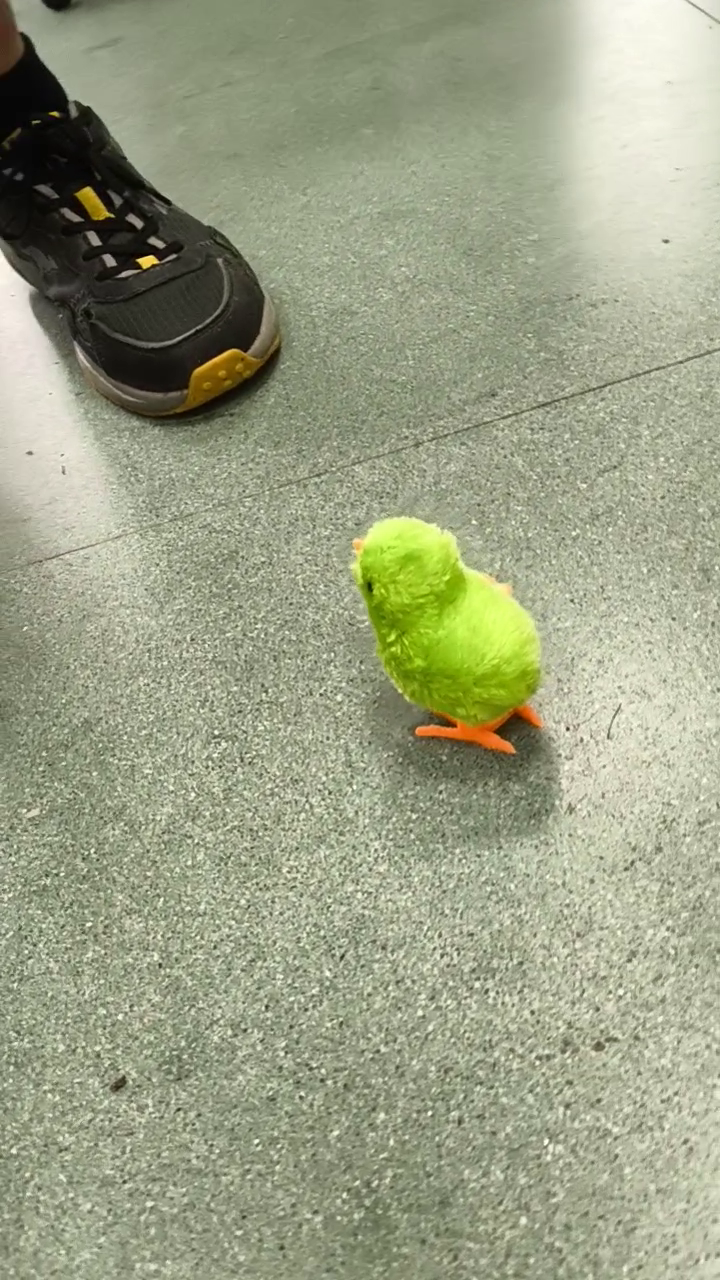green chicken: (345, 511, 561, 767)
